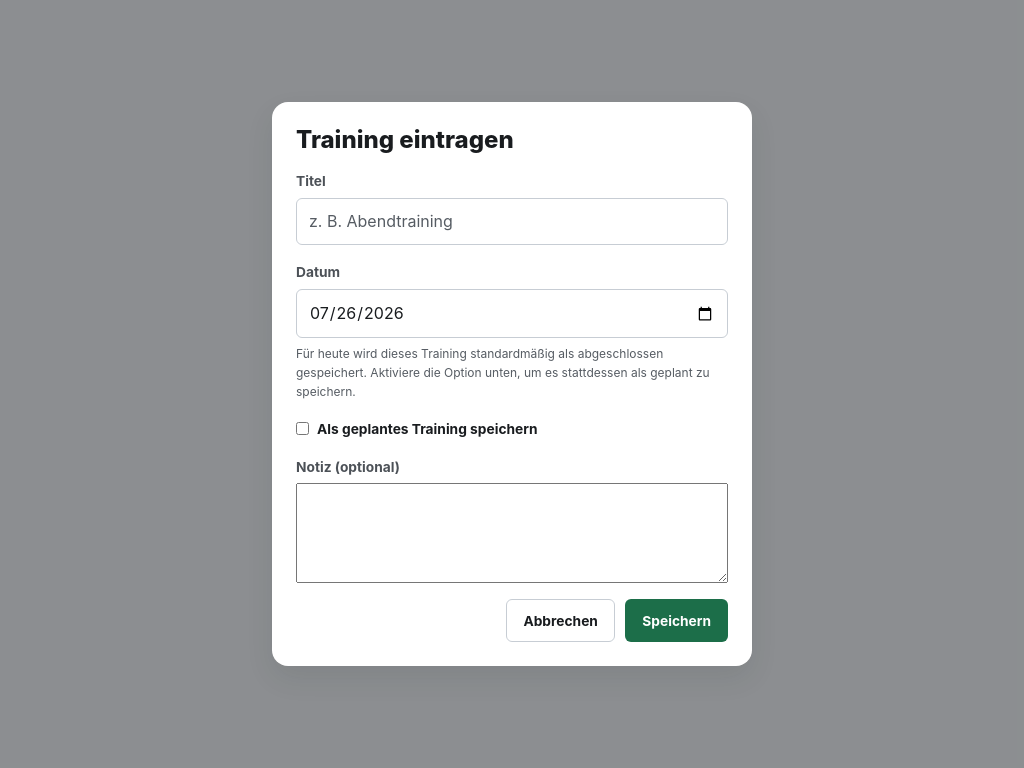
Test: CalendarCreateDialog › shows the past hint and hides planAsUpcoming for a past date
The width and height of the screenshot is (1024, 768).
Type "2026-01-01" into the date field labelled "Datum".
click(512, 314); type("2026-01-01")  # box [296,289,728,338]
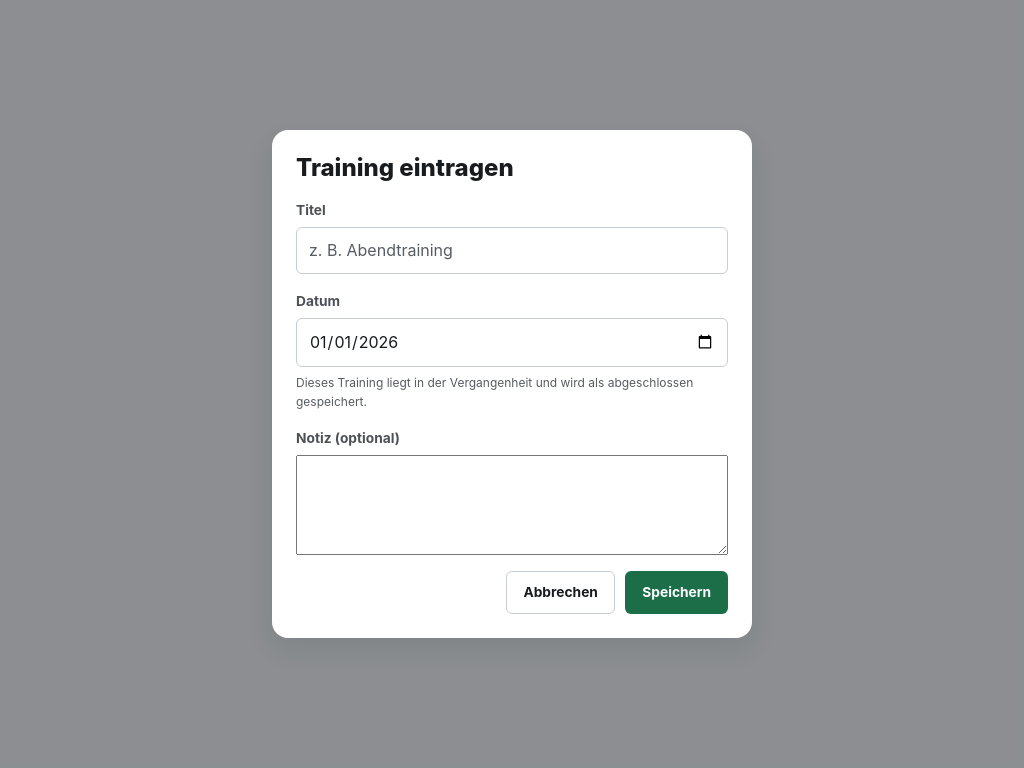
Check: the dialog shows "liegt in der Vergangenheit und wird als abgeschlossen gespeichert", box [296,375,693,409]
Check: the checkbox is gone
